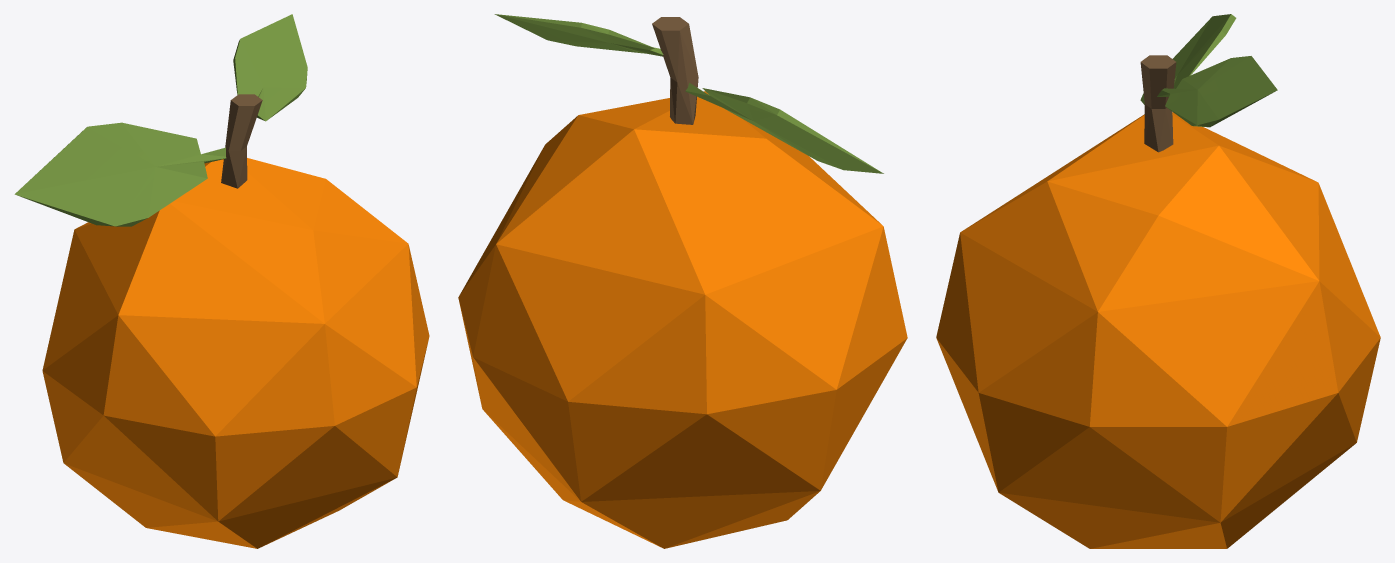
Rendered from Orange_01.fbx.
3 renders of one model, left to right at view 1: azimuth 30°, elevation 25°; view 2: azimuth 150°, elevation 25°; view 3: azimuth 270°, elevation 25°, orthographic. The views are drawn at different scales.
Parts seen in each view (by area): view 1: Orange_01; view 2: Orange_01; view 3: Orange_01.
Boxes of the visible parts, bbox=[...] form: Orange_01: bbox=[14, 14, 429, 548]; Orange_01: bbox=[458, 14, 907, 548]; Orange_01: bbox=[936, 14, 1380, 548].
Bounding box in the file's own units: 11.49 × 13.42 × 10.92.
